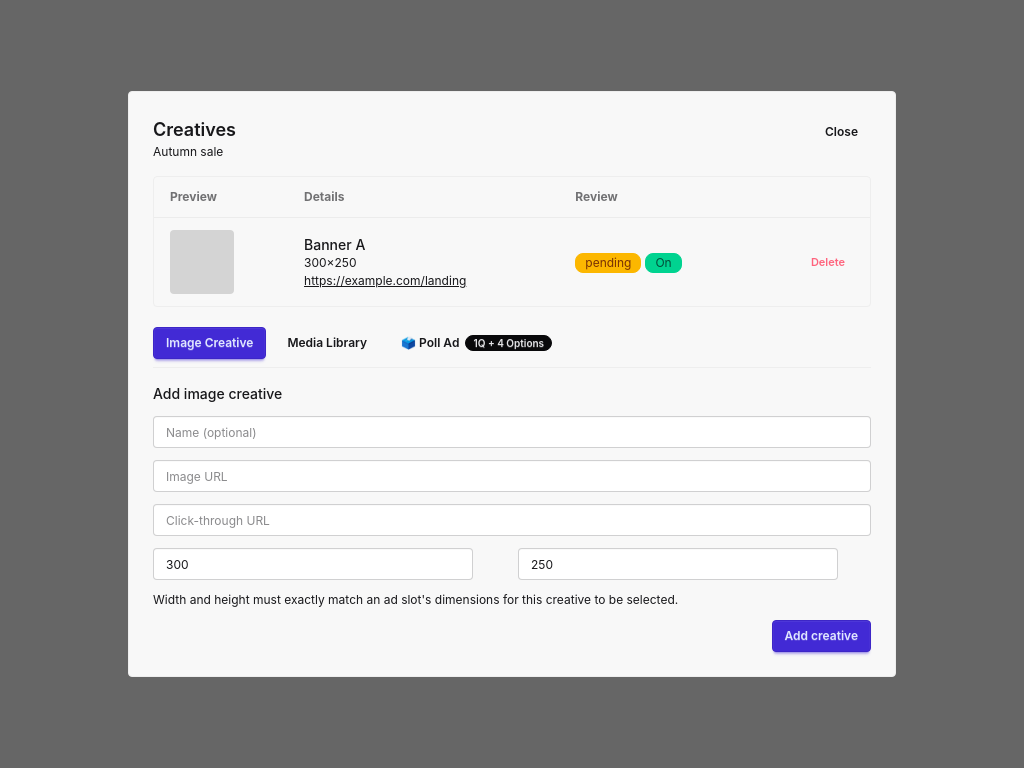
Test: CreativesModal gaps › uses a generic message when an action rejects with a non-Error
The image size is (1024, 768).
Click the button titled "Toggle active" at (664, 263), box 645,253 -> 682,273
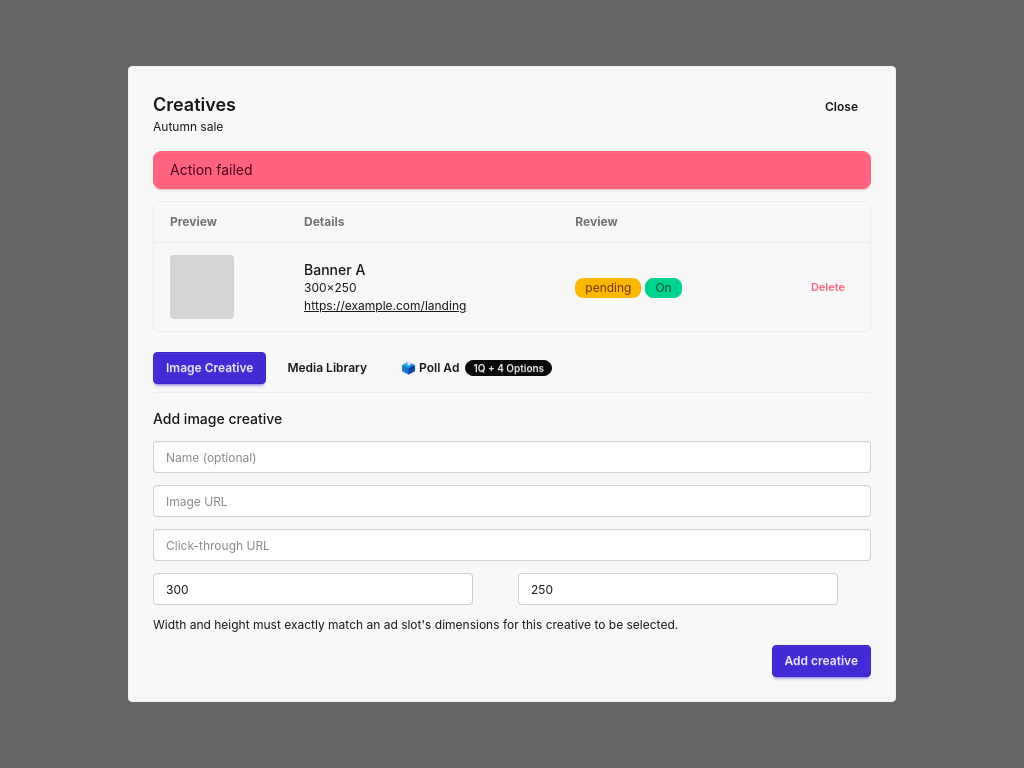
Result: the message reads "Action failed" at 170,161 -> 253,178
